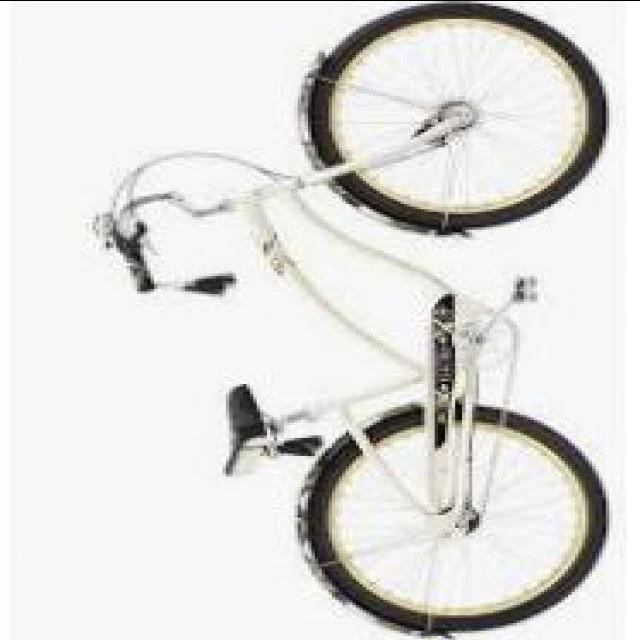bicycle: (90, 1, 604, 623)
